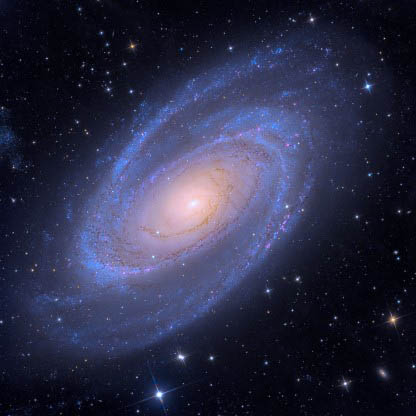Messier 81: (18, 8, 367, 402)
